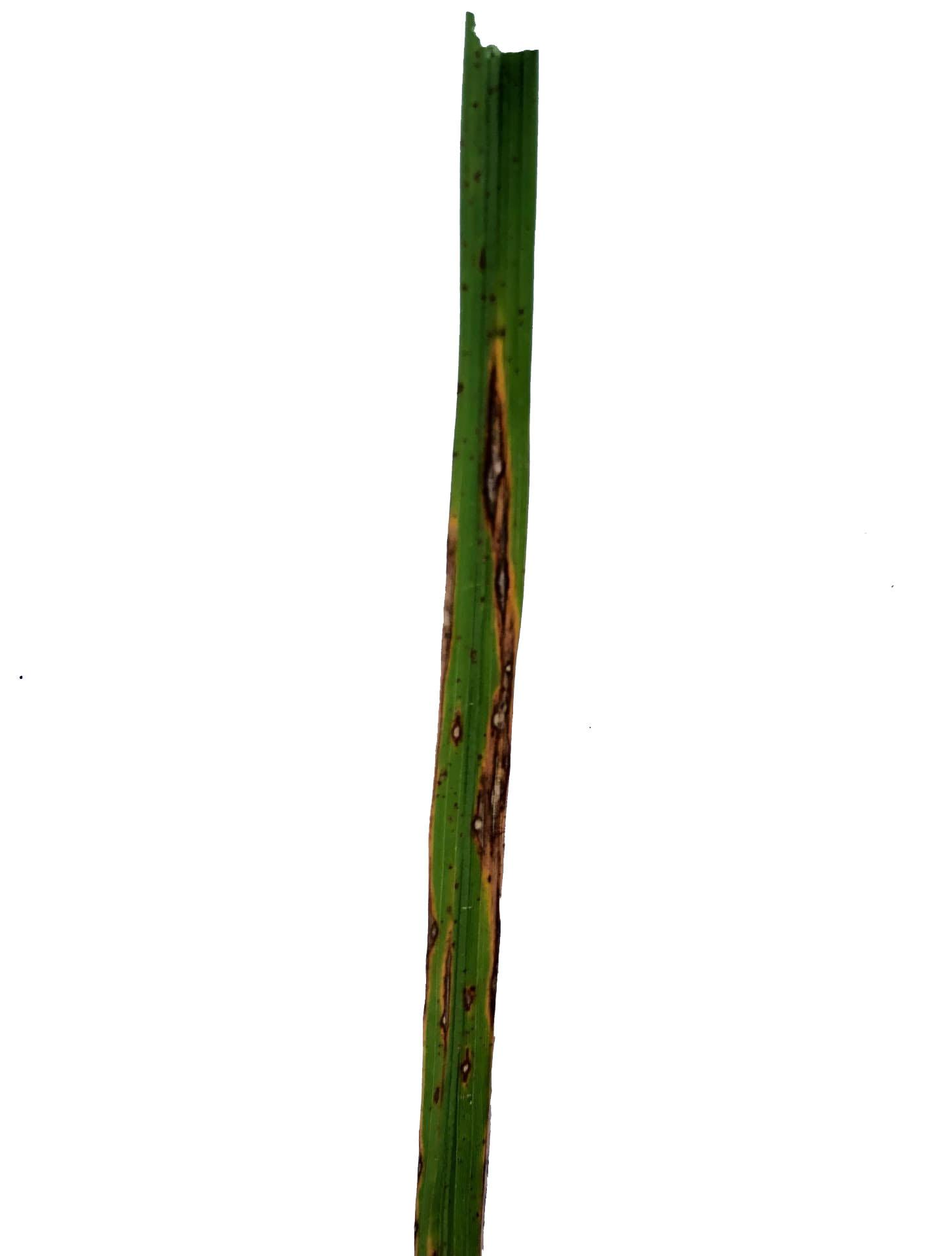Brown spot: (463, 977, 483, 1014)
Rice blast: (470, 644, 519, 880), (480, 354, 513, 547), (431, 929, 454, 1064), (491, 547, 513, 639), (456, 1036, 476, 1105), (444, 708, 470, 751), (424, 908, 442, 966)
